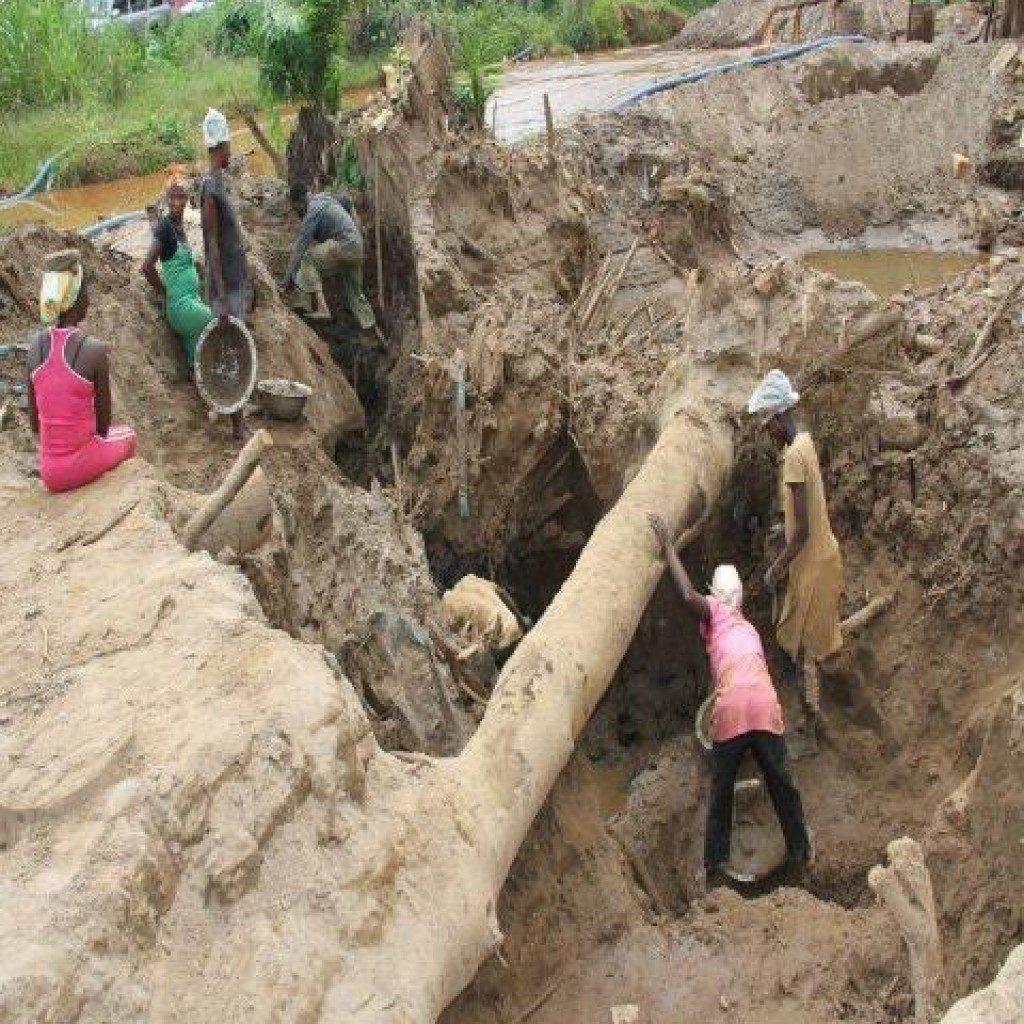MiningTool: (191, 312, 257, 412), (258, 375, 313, 423)
Person: (652, 514, 815, 889), (746, 372, 897, 741), (139, 176, 252, 448), (18, 262, 139, 490), (195, 106, 263, 456), (279, 179, 387, 353), (430, 569, 533, 669)
